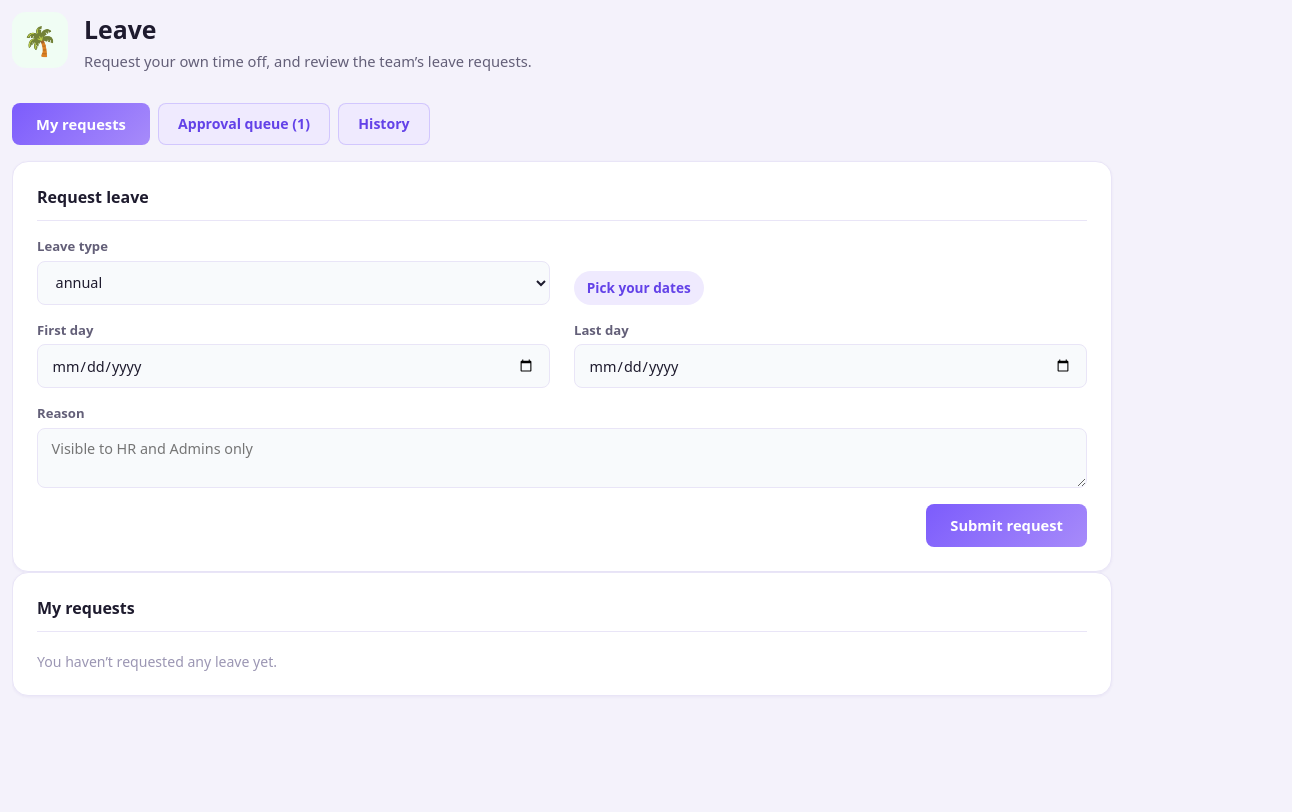
Test case: an approver sees no decision buttons on their own request
Click the tab "Approval queue (1)". click: (244, 124)
box: [158,103,330,145]
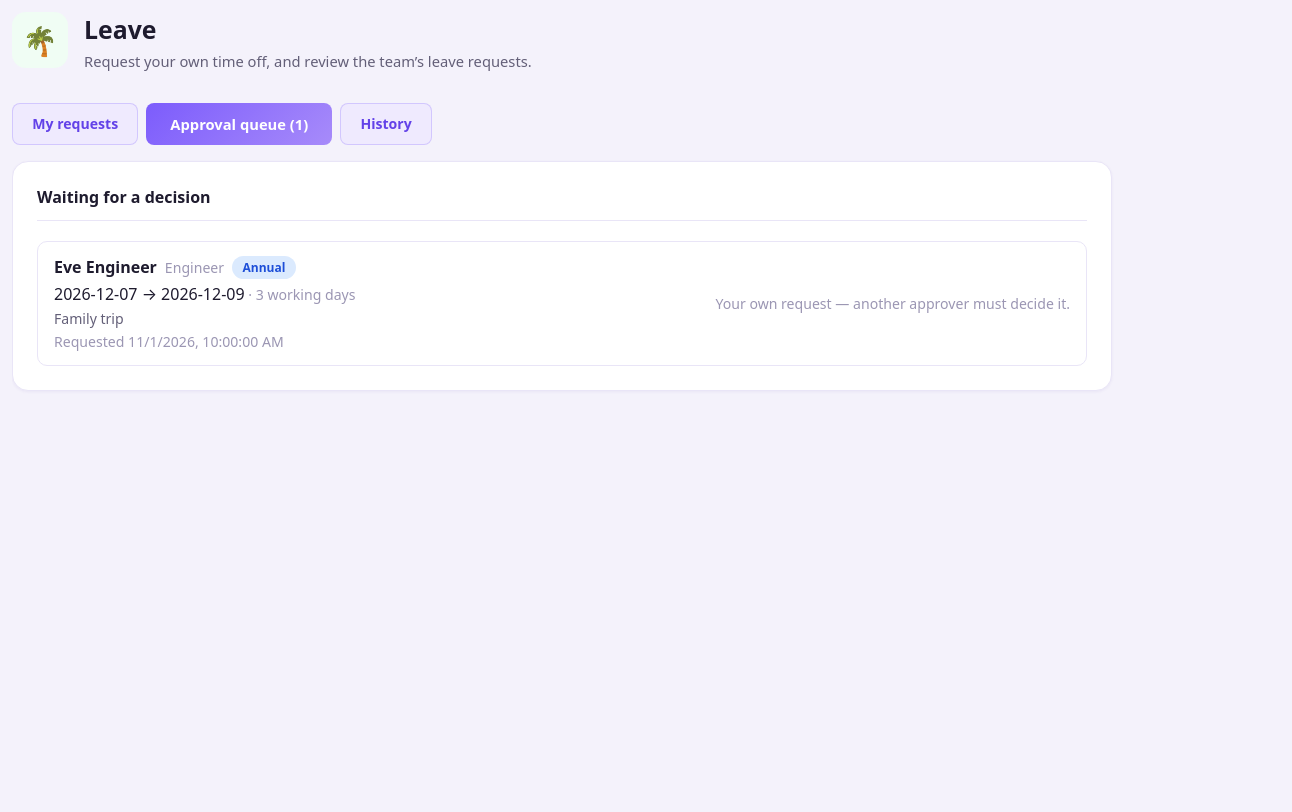
Now the text "another approver must decide it" is shown, box [715,294,1070,313]
